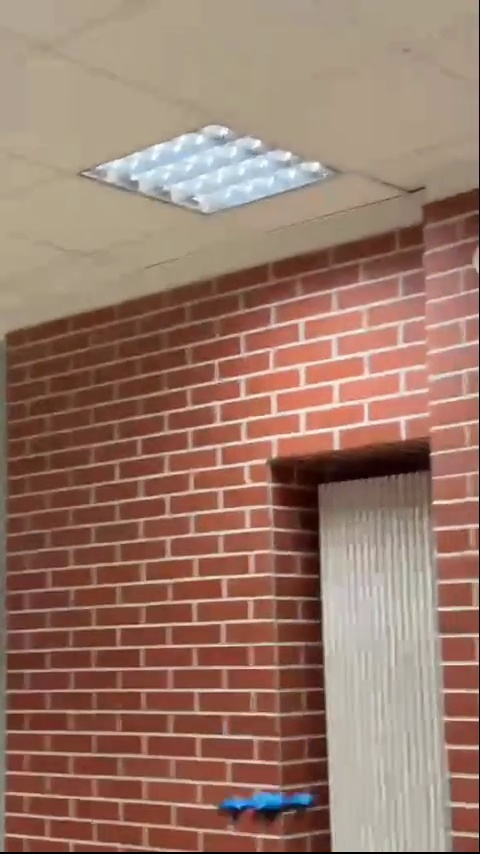drone: (219, 793, 320, 820)
